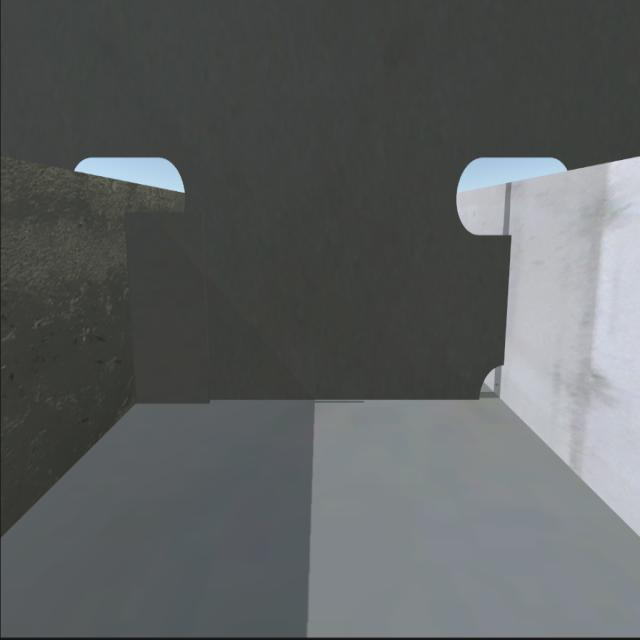fillet_hole: (476, 362, 505, 399)
fillet_yong_jeop_jang: (135, 392, 481, 410)
longi_yong_jeop_jang: (123, 218, 139, 411), (494, 234, 512, 370)
plate_CP01: (130, 215, 210, 402)
